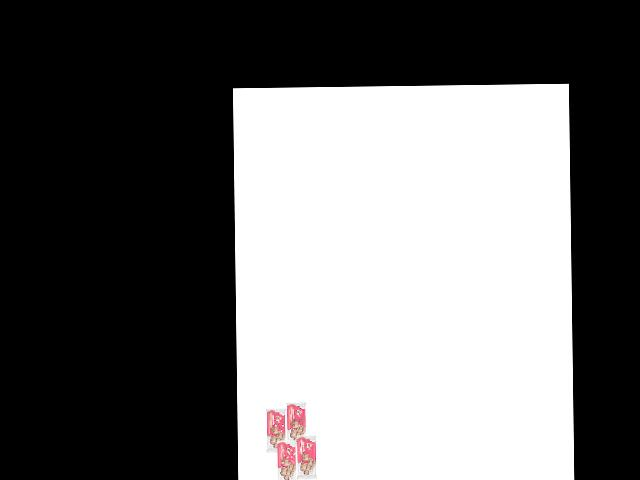chocolate: (263, 404, 289, 455)
